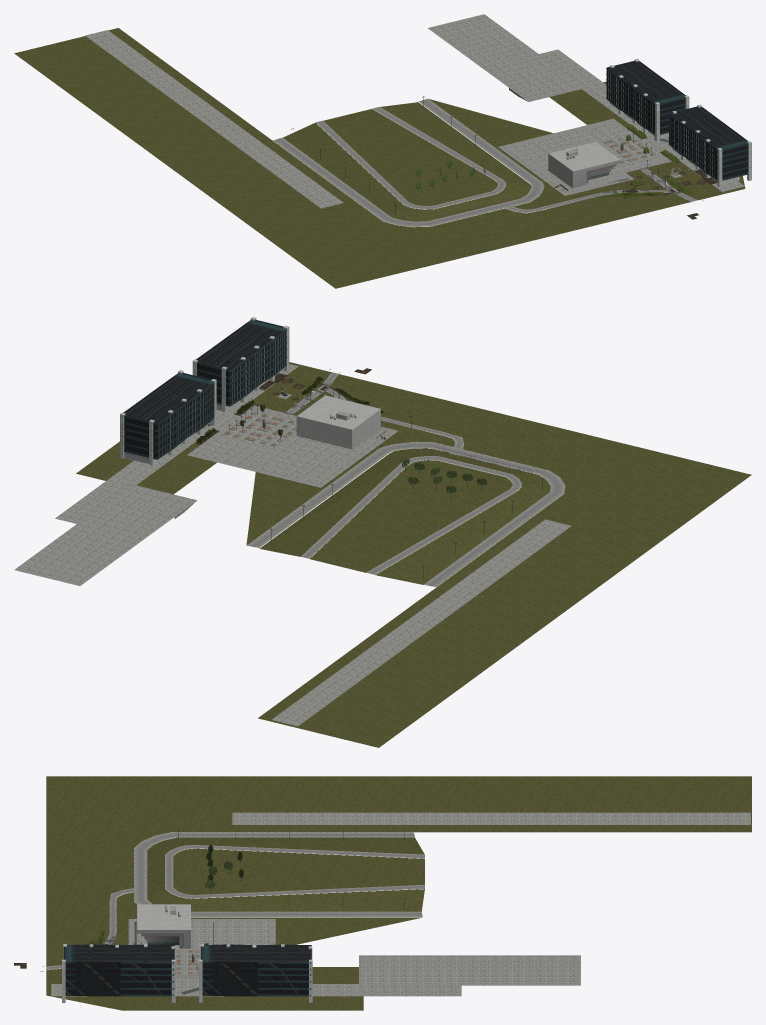
File: 00_03_outside_university.dae
3 views of the same model, one above another, from view 1: azimuth 30°, elevation 25°; view 2: azimuth 150°, elevation 25°; view 3: azimuth 270°, elevation 25° (orthographic). The views are drawn at different scales.
Visible parts, largest first — view 1: polySurface137, polySurface455, polySurface254, Object019-Pivot, Object048-Pivot, Object001-Pivot, polySurface502, polySurface491; view 2: polySurface137, polySurface455, polySurface254, Object048-Pivot, Object019-Pivot, Object001-Pivot, polySurface585; view 3: polySurface137, polySurface455, polySurface254, Object019-Pivot, Object048-Pivot, Object001-Pivot, polySurface585.
Boxes of the visible parts, <box> form: polySurface137: <box>14,28,745,288</box>; polySurface455: <box>85,14,744,208</box>; polySurface254: <box>273,98,697,226</box>; Object019-Pivot: <box>668,104,751,187</box>; Object048-Pivot: <box>606,59,689,141</box>; Object001-Pivot: <box>548,142,620,188</box>; polySurface502: <box>601,124,692,198</box>; polySurface491: <box>616,127,717,219</box>; polySurface137: <box>76,362,751,747</box>; polySurface455: <box>14,364,571,726</box>; polySurface254: <box>247,372,565,587</box>; Object048-Pivot: <box>120,370,216,465</box>; Object019-Pivot: <box>192,317,289,412</box>; Object001-Pivot: <box>296,395,380,449</box>; polySurface585: <box>240,404,487,497</box>; polySurface137: <box>46,776,751,1010</box>; polySurface455: <box>51,812,750,996</box>; polySurface254: <box>46,832,424,969</box>; Object019-Pivot: <box>62,944,175,1002</box>; Object048-Pivot: <box>199,944,312,1002</box>; Object001-Pivot: <box>137,904,190,948</box>; polySurface585: <box>166,844,243,944</box>.
Size of the model in its own units: 341 by 46.39 by 453.
